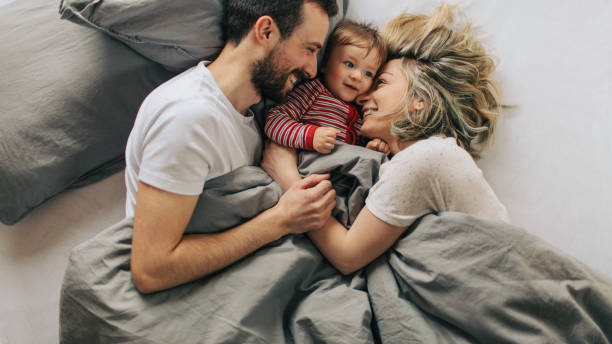without mask: (221, 1, 323, 98), (362, 56, 450, 131), (326, 26, 382, 96)
